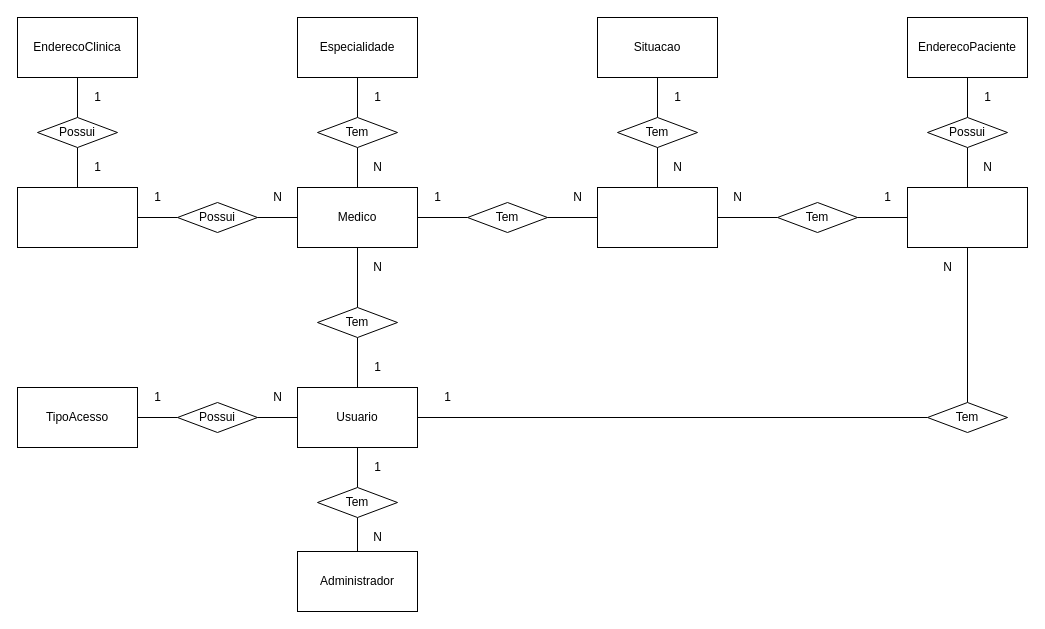
Image size: 1045x629. Some labels were removed from this diagram. Here are the shapes that lost their labels. From the top down, the centre of each, then its label:
point 77,217: Clinica
point 657,217: Consulta
point 967,217: Paciente
